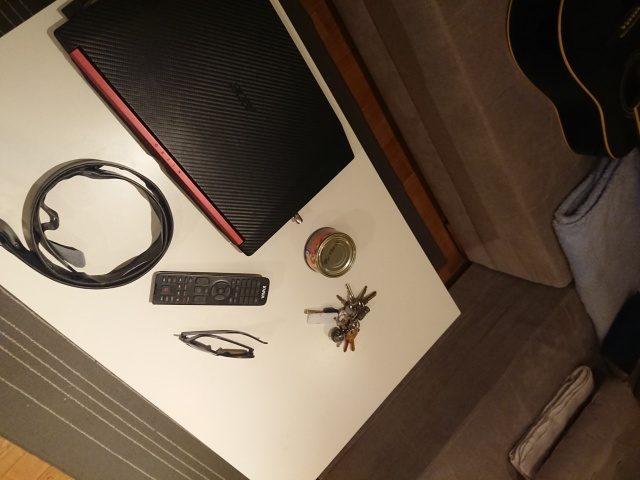Giana Tuna Salad Mexico 185g: (301, 224, 357, 281)
